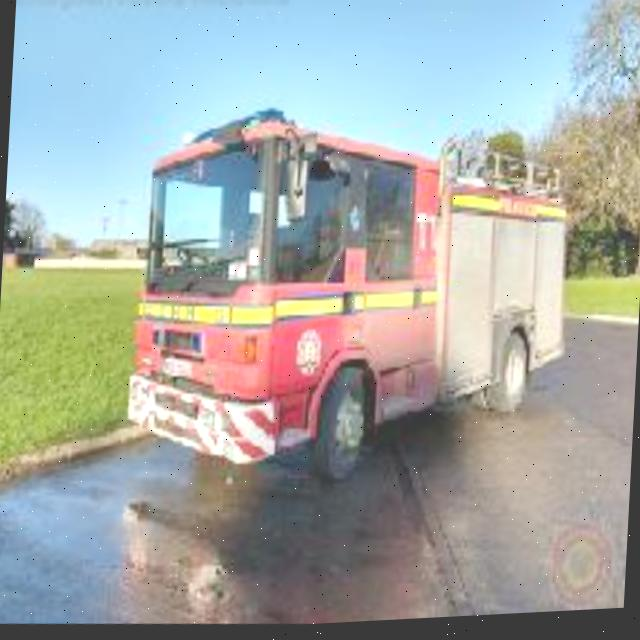emergency: (134, 118, 578, 489)
